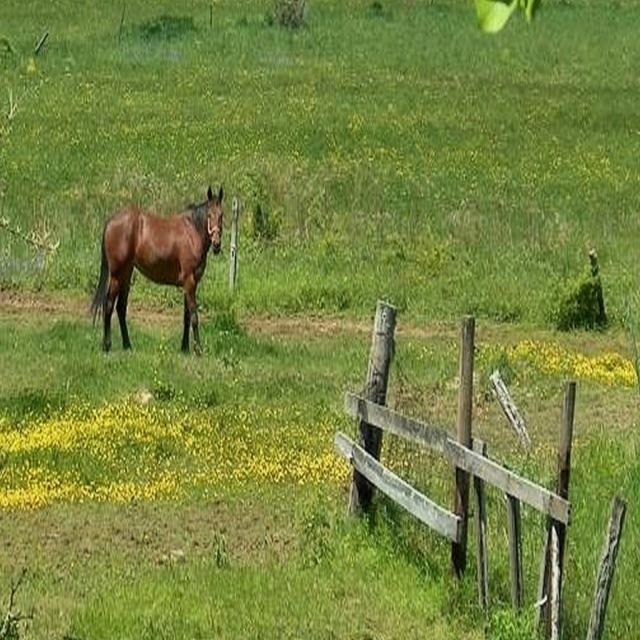Horse: (86, 179, 222, 359)
